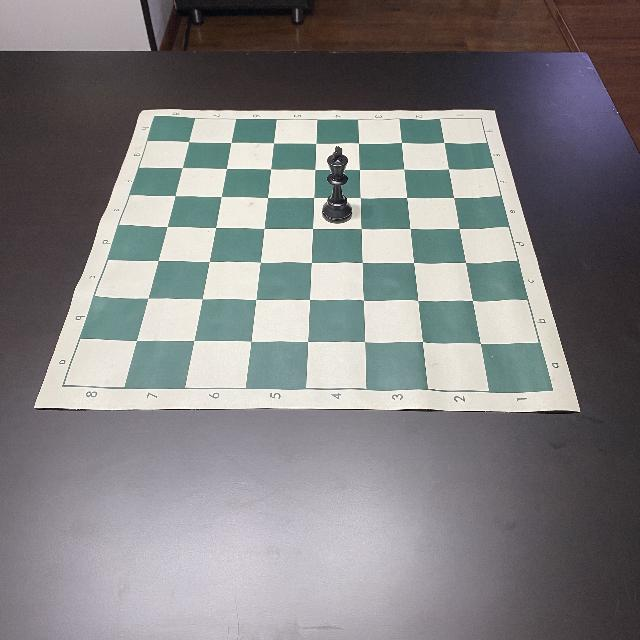black-king: (321, 144, 353, 223)
board: (33, 106, 580, 412)
